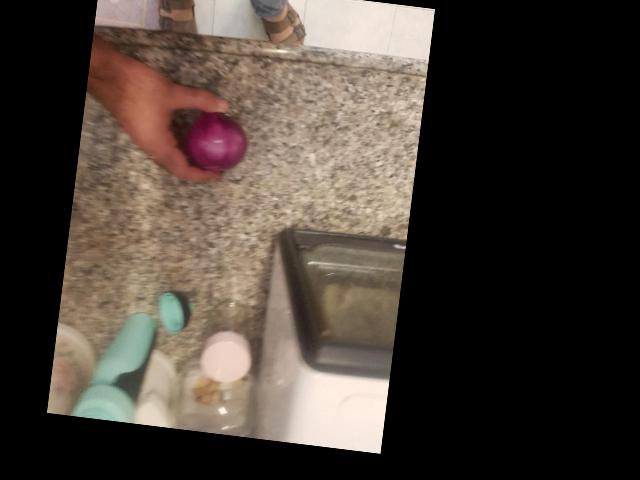onion: (327, 192, 417, 283)
